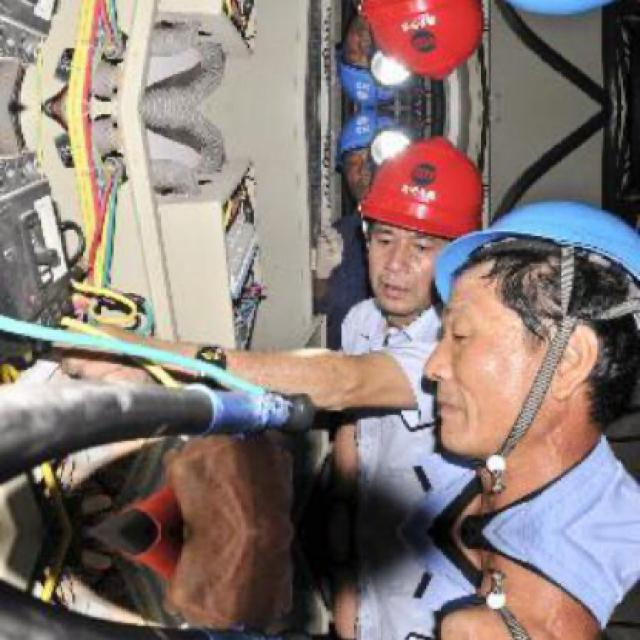helmet: (400, 185, 629, 492), (348, 132, 504, 340), (398, 574, 630, 638), (348, 0, 506, 85), (332, 26, 378, 105), (332, 113, 378, 191)
